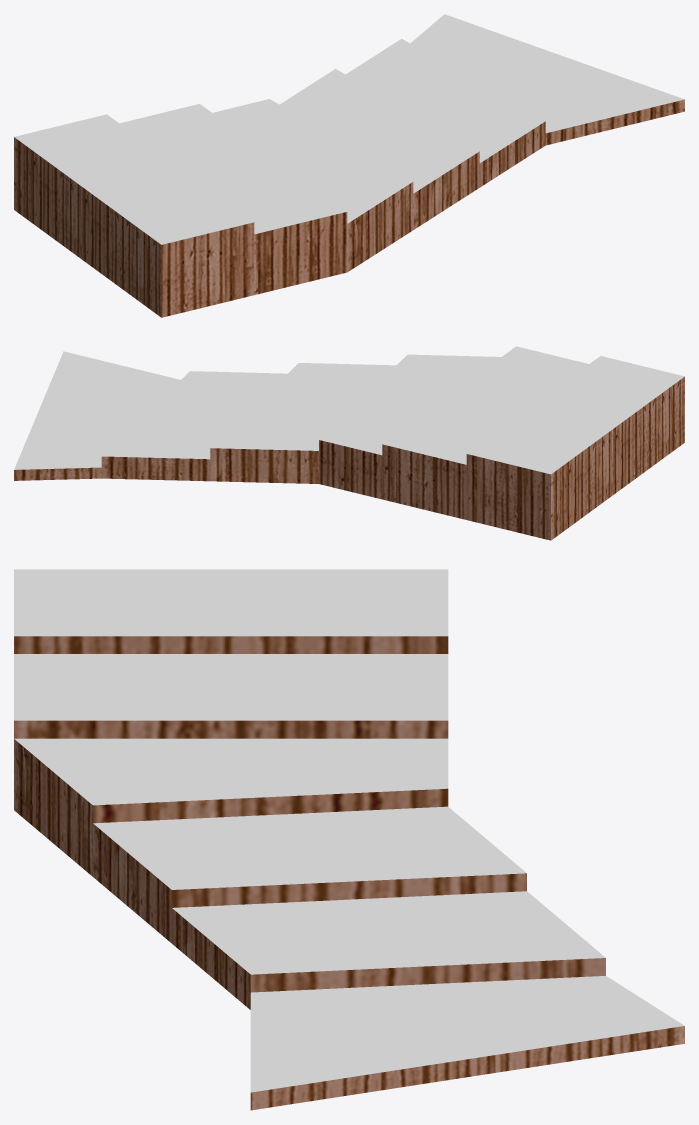
File: SM_Stairs.fbx
3 views of the same model, one above another, from view 1: azimuth 30°, elevation 25°; view 2: azimuth 150°, elevation 25°; view 3: azimuth 270°, elevation 25° (orthographic). The views are drawn at different scales.
Parts seen in each view (by area): view 1: SM_Stairs; view 2: SM_Stairs; view 3: SM_Stairs.
Part boxes in pixels (x1,y1,x2,y2): SM_Stairs: (14,14,684,317); SM_Stairs: (14,346,684,540); SM_Stairs: (14,569,684,1110).
Size of the model in its own units: 2600 by 300 by 1700.
